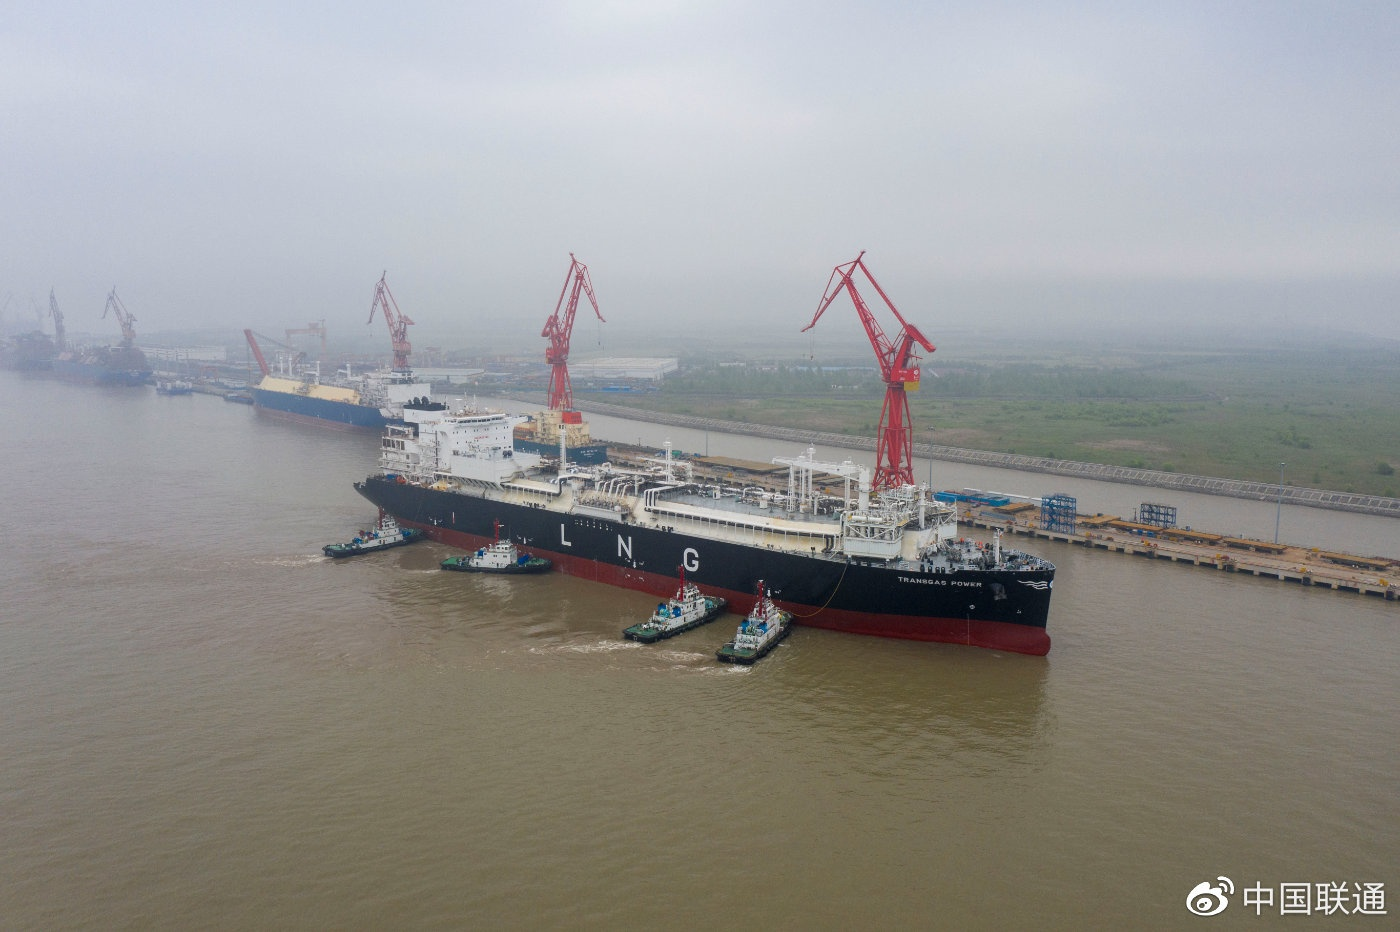Cargoship: (353, 379, 1061, 657)
otherboat: (608, 577, 724, 654), (429, 524, 556, 579), (707, 586, 790, 667), (313, 508, 419, 563)
